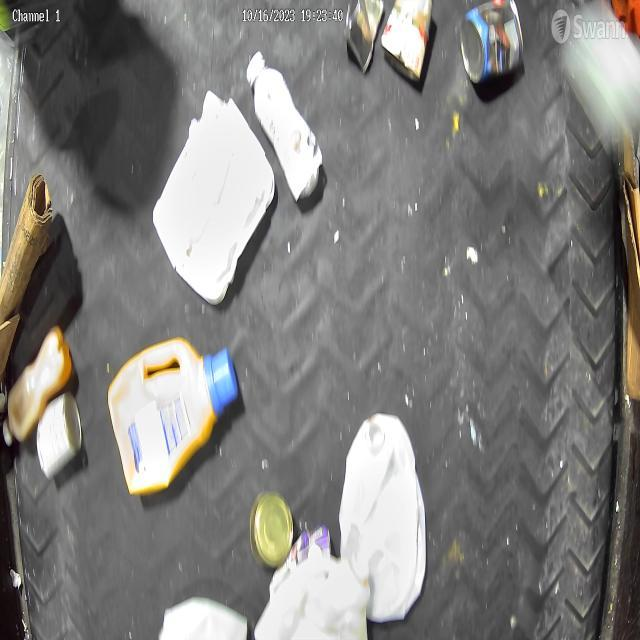can: (458, 0, 526, 84), (380, 0, 434, 87), (36, 388, 84, 483), (248, 488, 295, 572), (344, 0, 384, 76)
milk_jug: (338, 410, 428, 624), (252, 544, 372, 640)
non_white_jug: (106, 334, 240, 496)
